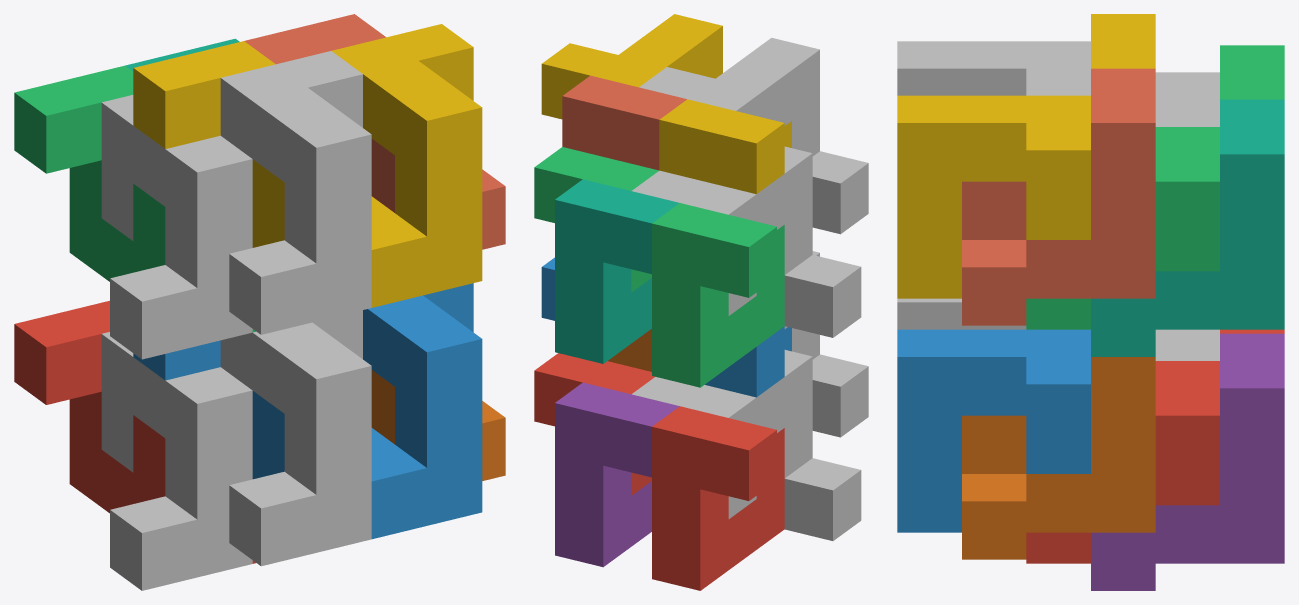
Rendered from tiling.obj.
3 renders of one model, left to right at view 1: azimuth 30°, elevation 25°; view 2: azimuth 150°, elevation 25°; view 3: azimuth 270°, elevation 25°, orthographic. The views are drawn at different scales.
Visible parts, largest first — view 1: copy_2_domain_4, copy_2_domain_8, copy_2_domain_2, copy_2_domain_3, copy_2_domain_1, copy_2_domain_6, copy_1_domain_3, copy_1_domain_1, copy_1_domain_4, copy_1_domain_8, copy_1_domain_2, copy_1_domain_6; view 2: copy_1_domain_1, copy_1_domain_3, copy_1_domain_5, copy_1_domain_7, copy_2_domain_4, copy_2_domain_3, copy_2_domain_1, copy_1_domain_4, copy_2_domain_8, copy_1_domain_8, copy_2_domain_2, copy_2_domain_7 (+4 smaller); view 3: copy_2_domain_6, copy_2_domain_8, copy_1_domain_8, copy_1_domain_6, copy_1_domain_5, copy_1_domain_7, copy_2_domain_5, copy_2_domain_7, copy_2_domain_4, copy_1_domain_3, copy_1_domain_4, copy_2_domain_3 (+2 smaller).
Boxes of the visible parts, x1,y1,x2,y2 form: copy_2_domain_4: (220, 51, 371, 334); copy_2_domain_8: (331, 24, 482, 307); copy_2_domain_2: (220, 310, 371, 566); copy_2_domain_3: (101, 95, 252, 359); copy_2_domain_1: (101, 332, 252, 590); copy_2_domain_6: (363, 283, 482, 539); copy_1_domain_3: (14, 65, 165, 281); copy_1_domain_1: (14, 300, 165, 513); copy_1_domain_4: (133, 41, 394, 247); copy_1_domain_8: (244, 14, 505, 249); copy_1_domain_2: (133, 340, 394, 479); copy_1_domain_6: (371, 370, 505, 480); copy_1_domain_1: (652, 406, 784, 590); copy_1_domain_3: (652, 203, 784, 387); copy_1_domain_5: (555, 382, 679, 567); copy_1_domain_7: (555, 179, 679, 363); copy_2_domain_4: (639, 37, 868, 234); copy_2_domain_3: (632, 146, 861, 337); copy_2_domain_1: (632, 350, 861, 540); copy_1_domain_4: (659, 99, 791, 194); copy_2_domain_8: (541, 14, 722, 119); copy_1_domain_8: (562, 75, 686, 170); copy_2_domain_2: (784, 251, 868, 437); copy_2_domain_7: (534, 147, 658, 292); copy_2_domain_6: (897, 329, 1090, 532); copy_2_domain_8: (897, 95, 1090, 298); copy_1_domain_8: (962, 68, 1155, 325); copy_1_domain_6: (962, 357, 1155, 559); copy_1_domain_5: (1091, 333, 1284, 590); copy_1_domain_7: (1091, 99, 1284, 356); copy_2_domain_5: (1026, 361, 1219, 563); copy_2_domain_7: (1026, 127, 1219, 329); copy_2_domain_4: (897, 41, 1090, 95); copy_1_domain_3: (1220, 45, 1284, 99); copy_1_domain_4: (1091, 14, 1155, 68); copy_2_domain_3: (1155, 72, 1219, 126).
Size of the model in its own units: 6 by 8 by 6.
